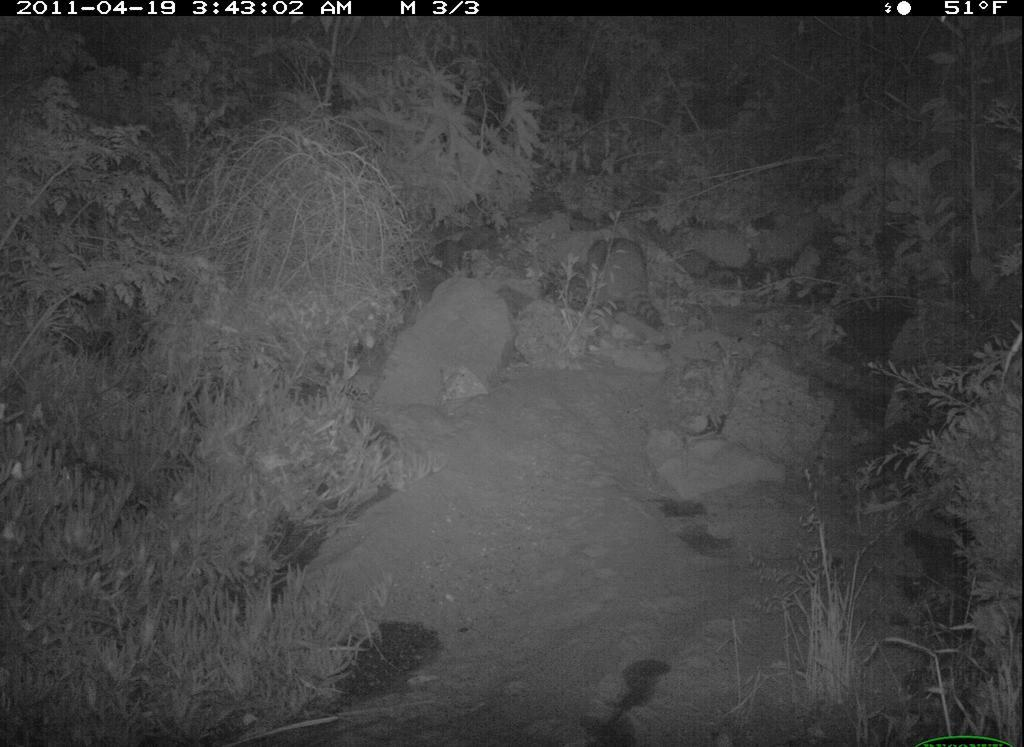raccoon: (589, 228, 667, 335)
